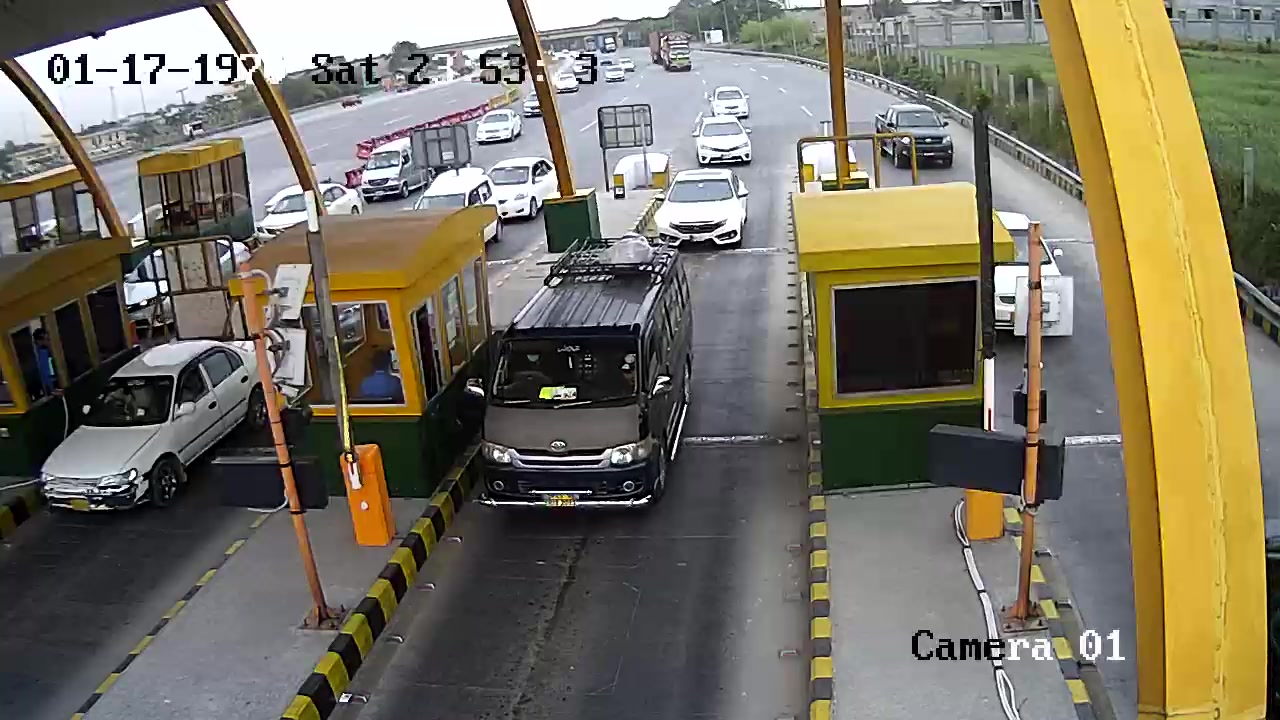F3: (471, 239, 709, 516)
